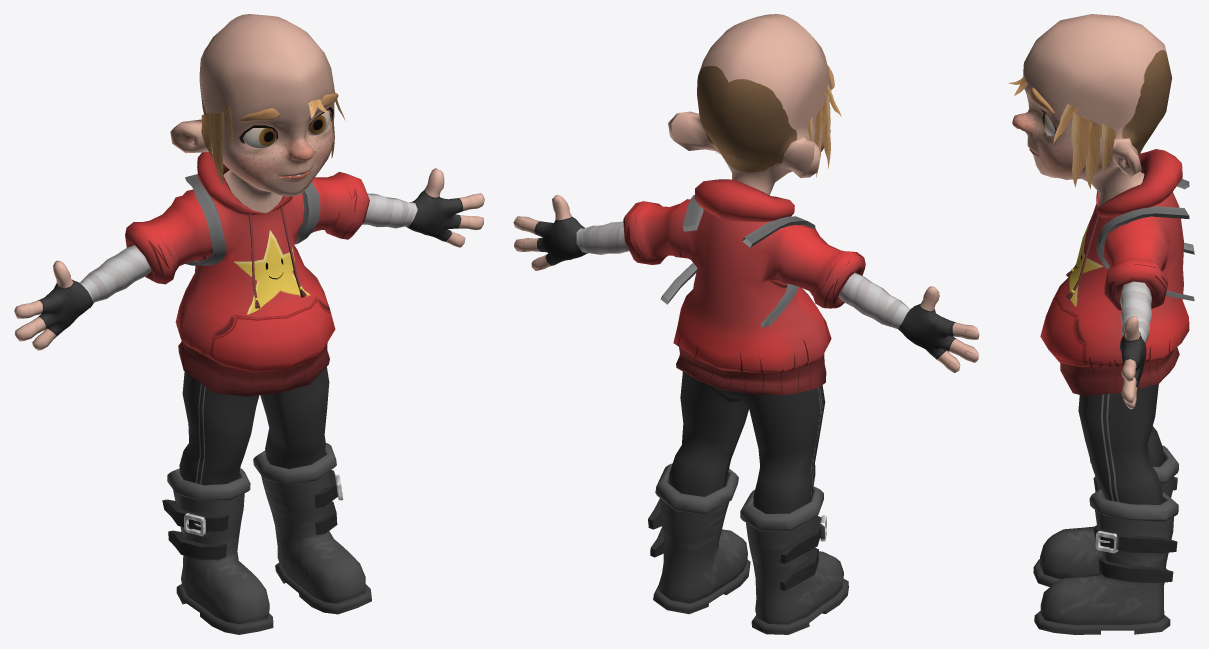
Rendered from Mary.fbx.
3 views of the same model, side by side, from view 1: azimuth 30°, elevation 25°; view 2: azimuth 150°, elevation 25°; view 3: azimuth 270°, elevation 25° (orthographic).
Visible parts, largest first — view 1: polySurface169.001; view 2: polySurface169.001; view 3: polySurface169.001.
Part boxes in pixels (box(x1,y1,x2,y2)): polySurface169.001: box(14, 14, 484, 634); polySurface169.001: box(513, 14, 979, 634); polySurface169.001: box(1008, 14, 1194, 634).
Bounding box in the file's own units: 32.51 × 38.85 × 11.27.
